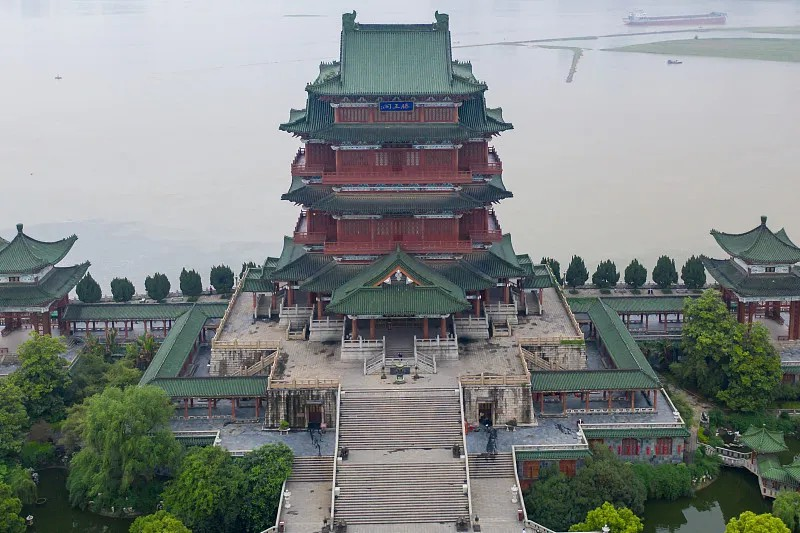Teng: (242, 8, 553, 339)
